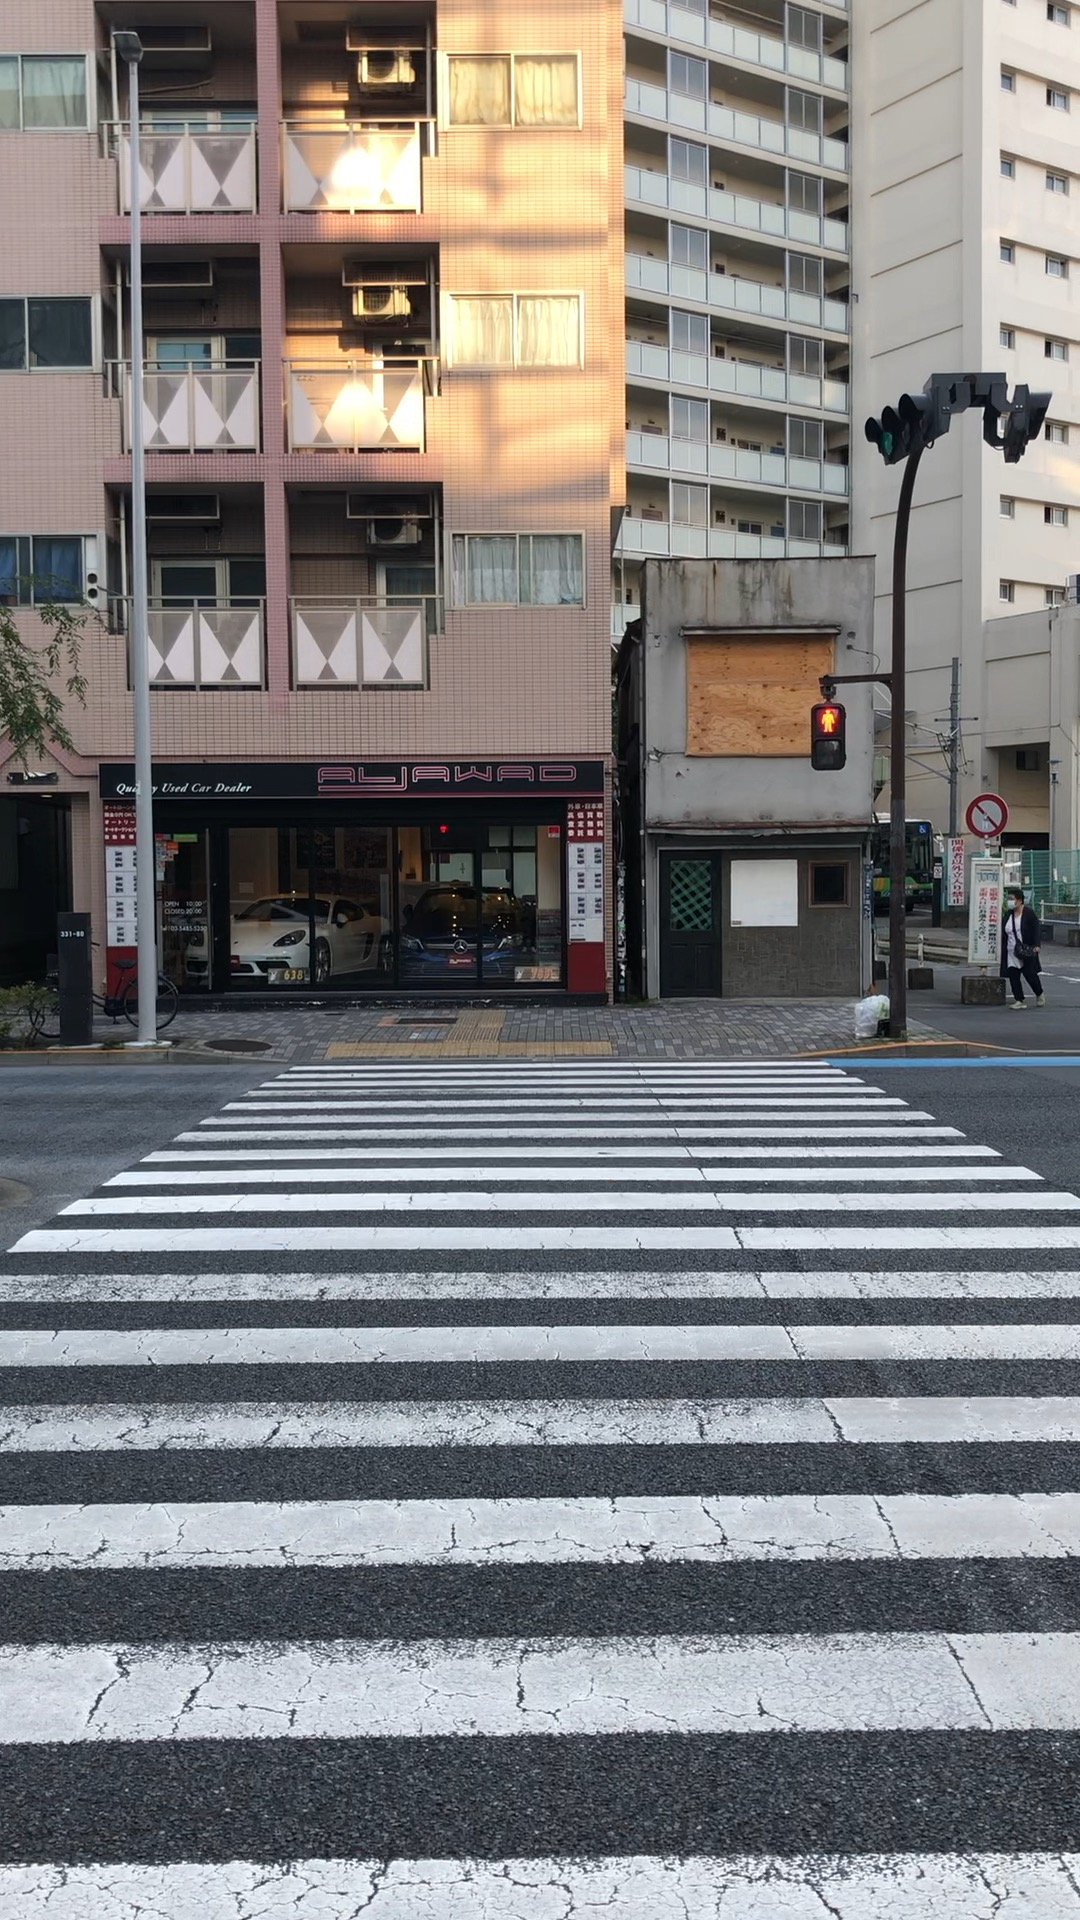red: (810, 703, 847, 770)
